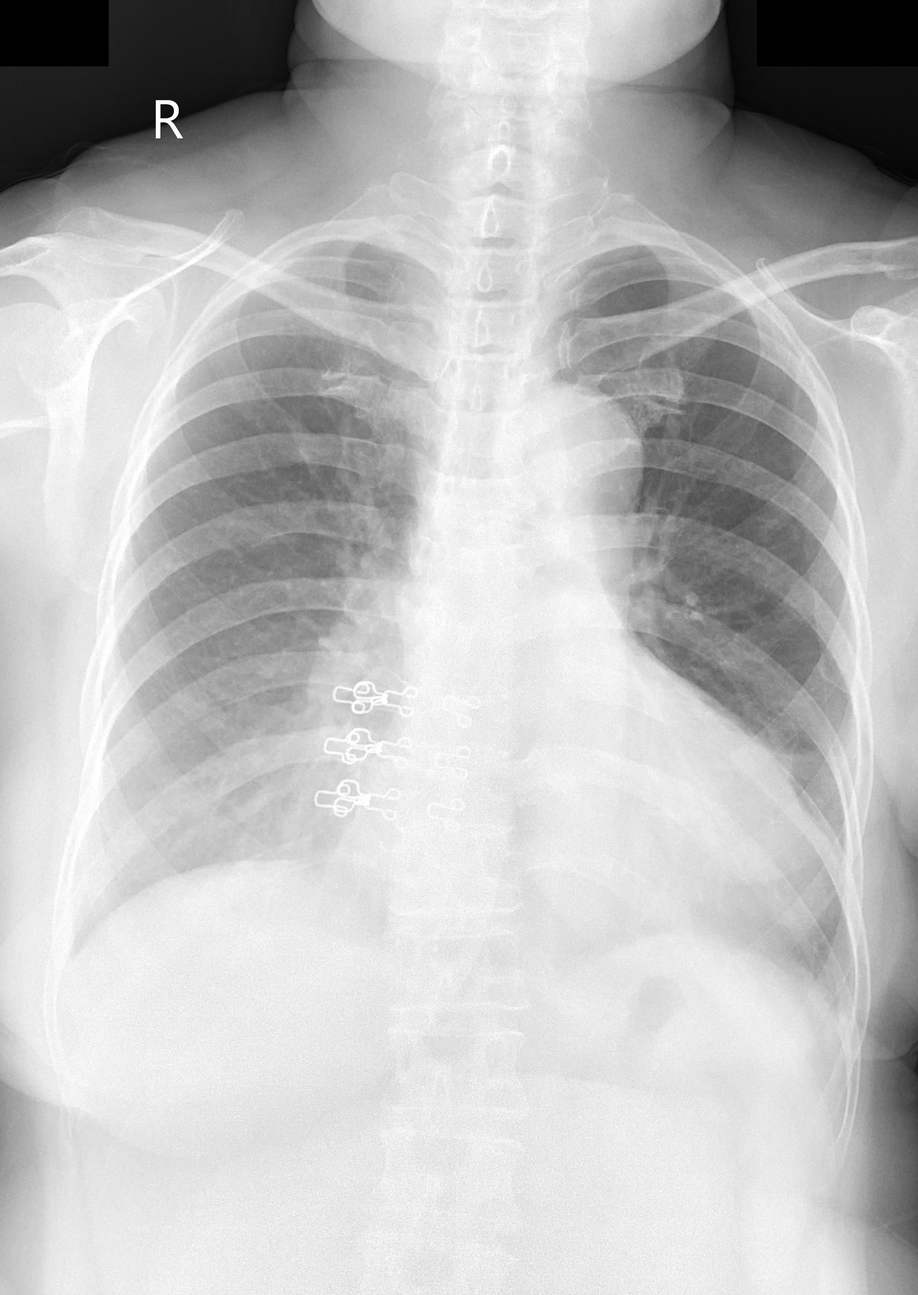Aortic enlargement: (516, 377, 648, 526)
Cardiomegaly: (341, 734, 826, 939)
